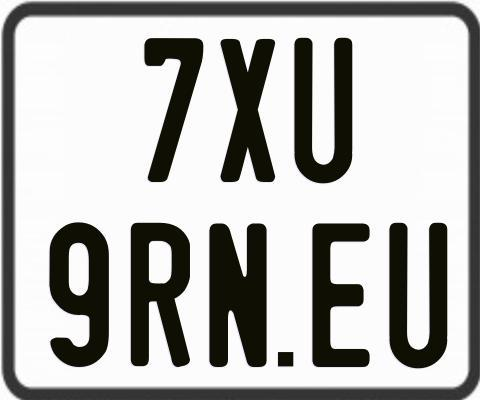7: (143, 38, 206, 183)
9: (46, 221, 106, 370)
E: (309, 223, 367, 367)
N: (209, 222, 267, 368)
R: (131, 221, 195, 366)
U: (386, 222, 448, 371), (291, 35, 351, 182)
X: (221, 39, 279, 184)
